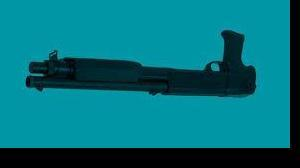larga: (26, 30, 257, 98)
